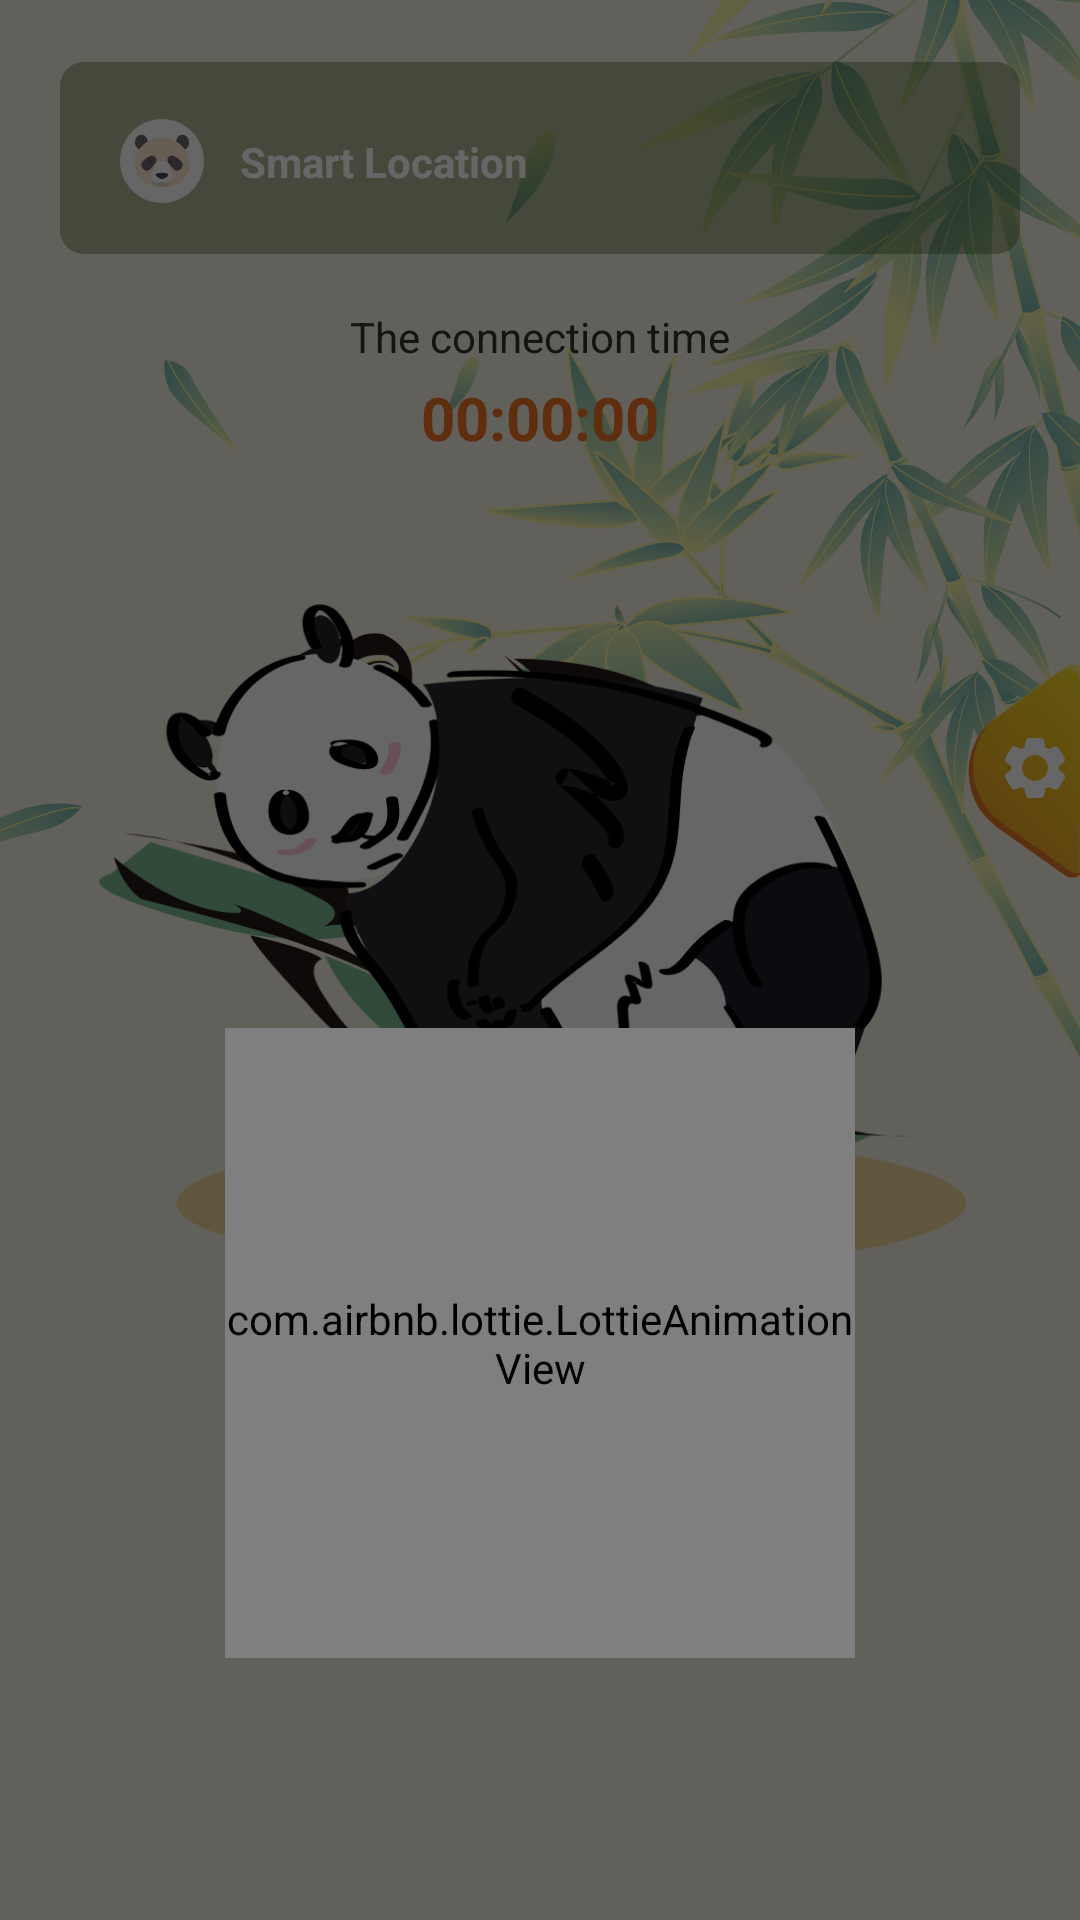

Where to tap for icons on this 1080px×1920px app screen, as point (x, y):
set: point (1020, 771)
